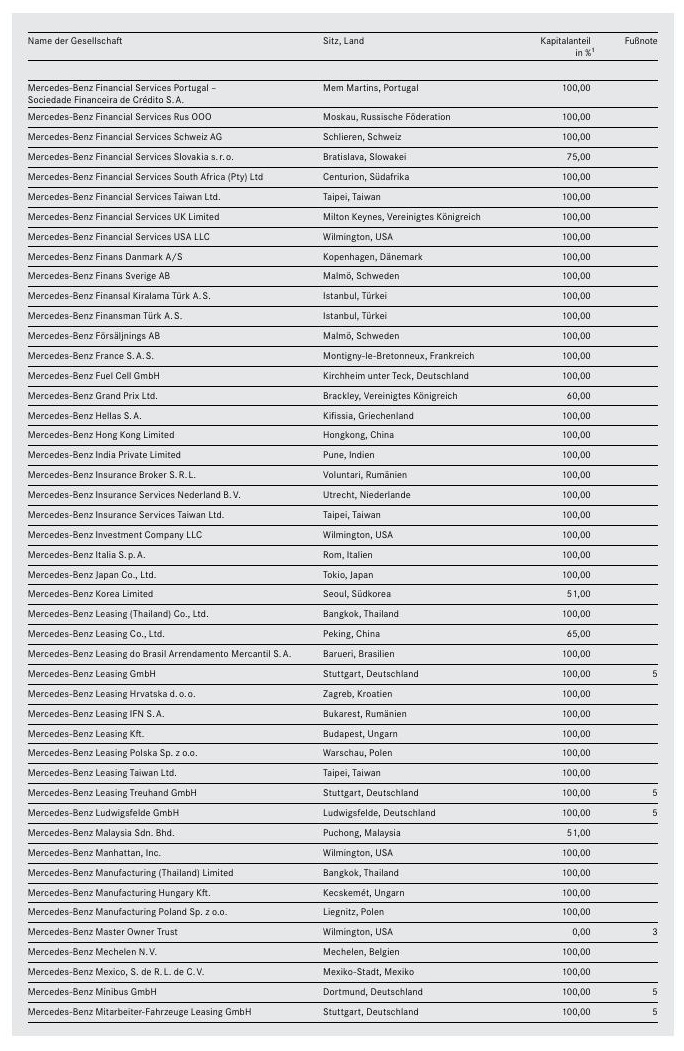table: (0, 0, 684, 1051)
